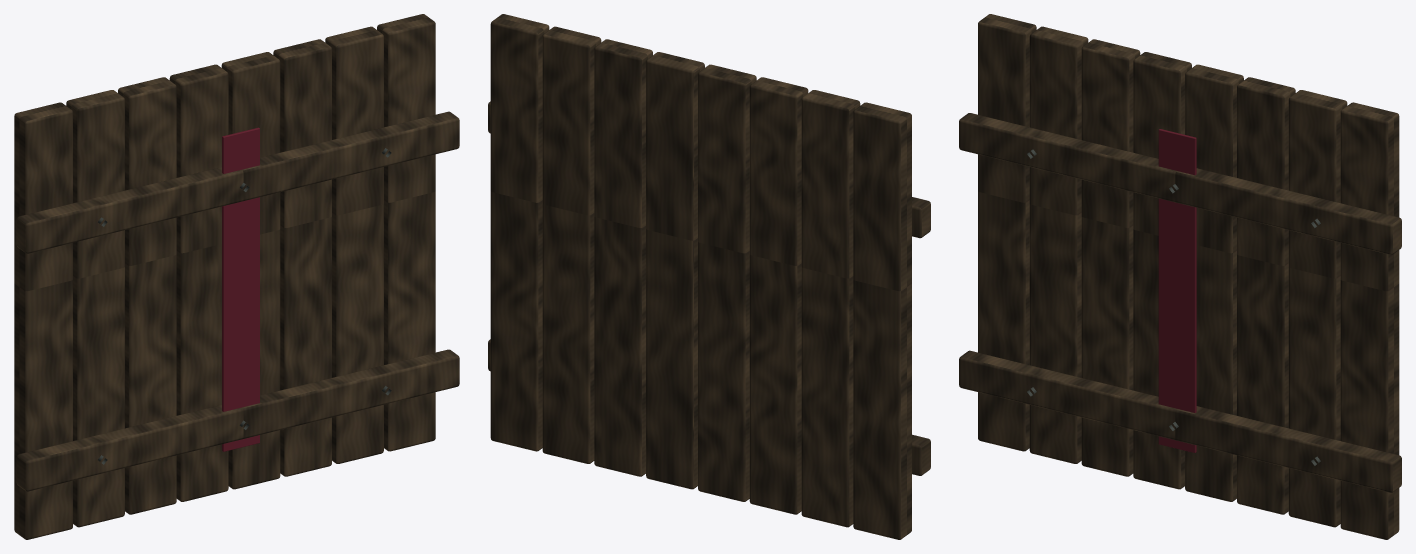
File: C18_breakable_oak.gltf
3 renders of one model, left to right at view 1: azimuth 30°, elevation 25°; view 2: azimuth 150°, elevation 25°; view 3: azimuth 330°, elevation 25°, orthographic.
Parts seen in each view (by area): view 1: Splinterable oak plank, Splinterable oak plank.005, Splinterable oak plank.002, Splinterable oak plank.001, Splinterable oak plank.006, Splinterable oak plank.007, Barricade cross brace.001, Barricade cross brace, Splinterable oak plank.003, Splinterable oak plank.004, Breakable cloth marker; view 2: Splinterable oak plank, Splinterable oak plank.006, Splinterable oak plank.002, Splinterable oak plank.007, Splinterable oak plank.001, Splinterable oak plank.004, Splinterable oak plank.005, Splinterable oak plank.003, Barricade cross brace, Barricade cross brace.001; view 3: Splinterable oak plank.007, Splinterable oak plank.006, Splinterable oak plank.002, Splinterable oak plank.001, Splinterable oak plank, Splinterable oak plank.005, Barricade cross brace, Barricade cross brace.001, Splinterable oak plank.004, Splinterable oak plank.003, Breakable cloth marker.
Part boxes in pixels (x1,y1,x2,y2): Splinterable oak plank: [14, 102, 72, 539]; Splinterable oak plank.005: [273, 39, 331, 476]; Splinterable oak plank.002: [118, 77, 176, 514]; Splinterable oak plank.001: [66, 90, 124, 527]; Splinterable oak plank.006: [325, 26, 383, 463]; Splinterable oak plank.007: [377, 14, 435, 451]; Barricade cross brace.001: [16, 111, 459, 253]; Barricade cross brace: [16, 349, 459, 491]; Splinterable oak plank.003: [169, 64, 228, 501]; Splinterable oak plank.004: [221, 52, 280, 489]; Breakable cloth marker: [222, 127, 259, 451]; Splinterable oak plank: [853, 102, 911, 539]; Splinterable oak plank.006: [542, 26, 601, 463]; Splinterable oak plank.002: [749, 77, 808, 514]; Splinterable oak plank.007: [490, 14, 549, 451]; Splinterable oak plank.001: [801, 90, 860, 527]; Splinterable oak plank.004: [646, 52, 704, 489]; Splinterable oak plank.005: [594, 39, 652, 476]; Splinterable oak plank.003: [698, 64, 756, 501]; Barricade cross brace: [488, 339, 930, 475]; Barricade cross brace.001: [488, 101, 930, 238]; Splinterable oak plank.007: [1340, 102, 1399, 539]; Splinterable oak plank.006: [1288, 90, 1347, 527]; Splinterable oak plank.002: [1081, 39, 1140, 476]; Splinterable oak plank.001: [1029, 26, 1088, 463]; Splinterable oak plank: [978, 14, 1036, 451]; Splinterable oak plank.005: [1237, 77, 1295, 514]; Barricade cross brace: [959, 350, 1401, 492]; Barricade cross brace.001: [959, 113, 1401, 254]; Splinterable oak plank.004: [1185, 64, 1243, 501]; Splinterable oak plank.003: [1133, 52, 1191, 489]; Breakable cloth marker: [1158, 129, 1196, 452].
Size of the model in its own units: 2.6 by 2.4 by 0.255.
Materials: 3 (1 with a texture image).
